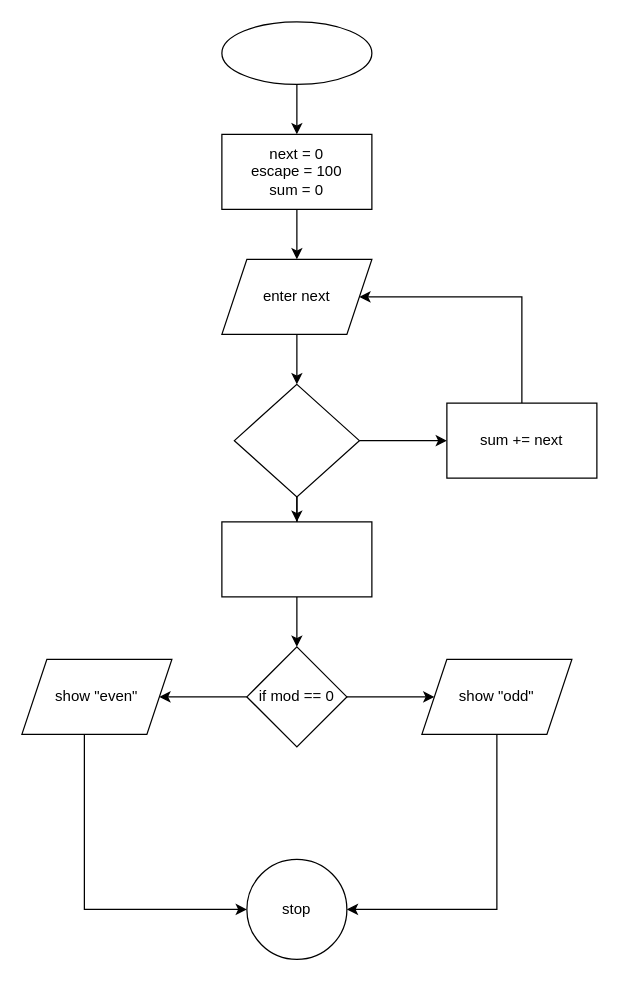
This 619x981 diagram has some shape labels left out. The box of each missing label's shape, as (x1, y1, x2, y2) in pixels:
if next < escape: (233, 383, 359, 497)
mod = sum % 2: (221, 521, 372, 597)
Start: (221, 21, 372, 84)
